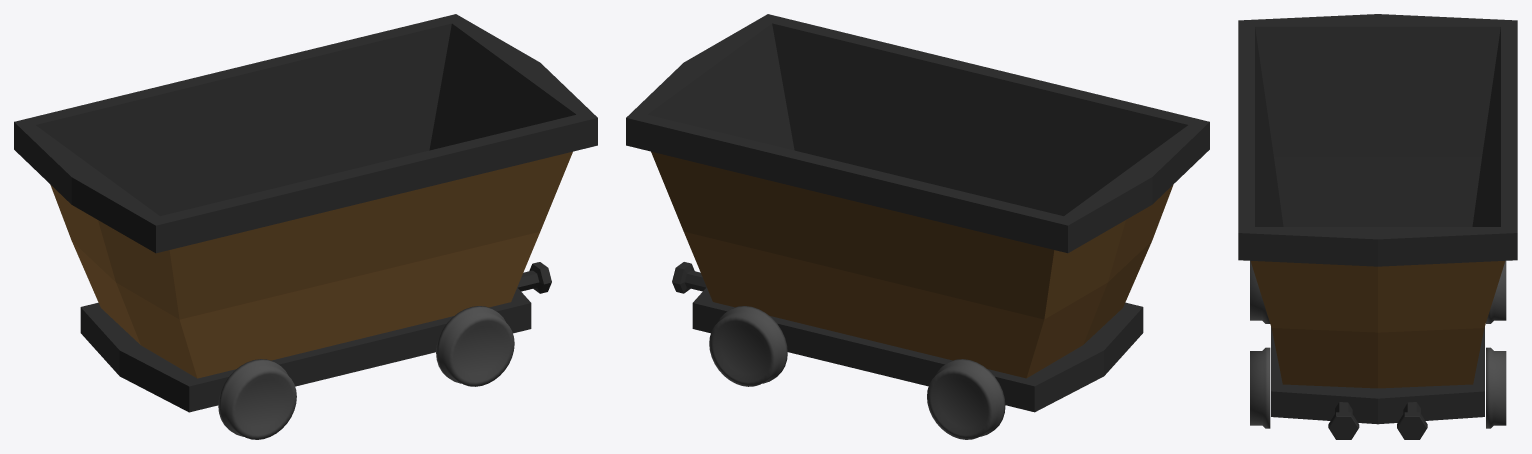
The model's file is Minecart.fbx.
3 renders of one model, left to right at view 1: azimuth 30°, elevation 25°; view 2: azimuth 150°, elevation 25°; view 3: azimuth 270°, elevation 25°, orthographic.
Parts seen in each view (by area): view 1: Cube.006, Circle.025, Circle.022, Circle.023; view 2: Cube.006, Circle.027, Circle.026, Circle.024; view 3: Cube.006, Circle.025, Circle.027, Circle.023, Circle.024, Circle.026, Circle.022.
Boxes of the visible parts, x1,y1,x2,y2 form: Cube.006: (14, 14, 597, 412); Circle.025: (436, 306, 514, 386); Circle.022: (218, 359, 296, 439); Circle.023: (517, 262, 551, 293); Cube.006: (626, 14, 1209, 412); Circle.027: (709, 306, 787, 386); Circle.026: (927, 359, 1005, 439); Circle.024: (672, 262, 706, 293); Cube.006: (1238, 14, 1517, 424); Circle.025: (1250, 347, 1270, 428); Circle.027: (1486, 347, 1506, 428); Circle.023: (1328, 402, 1359, 439); Circle.024: (1397, 402, 1427, 439); Circle.026: (1486, 260, 1506, 323); Circle.022: (1250, 260, 1270, 323).
Size of the model in its own units: 219 by 111 by 115.
